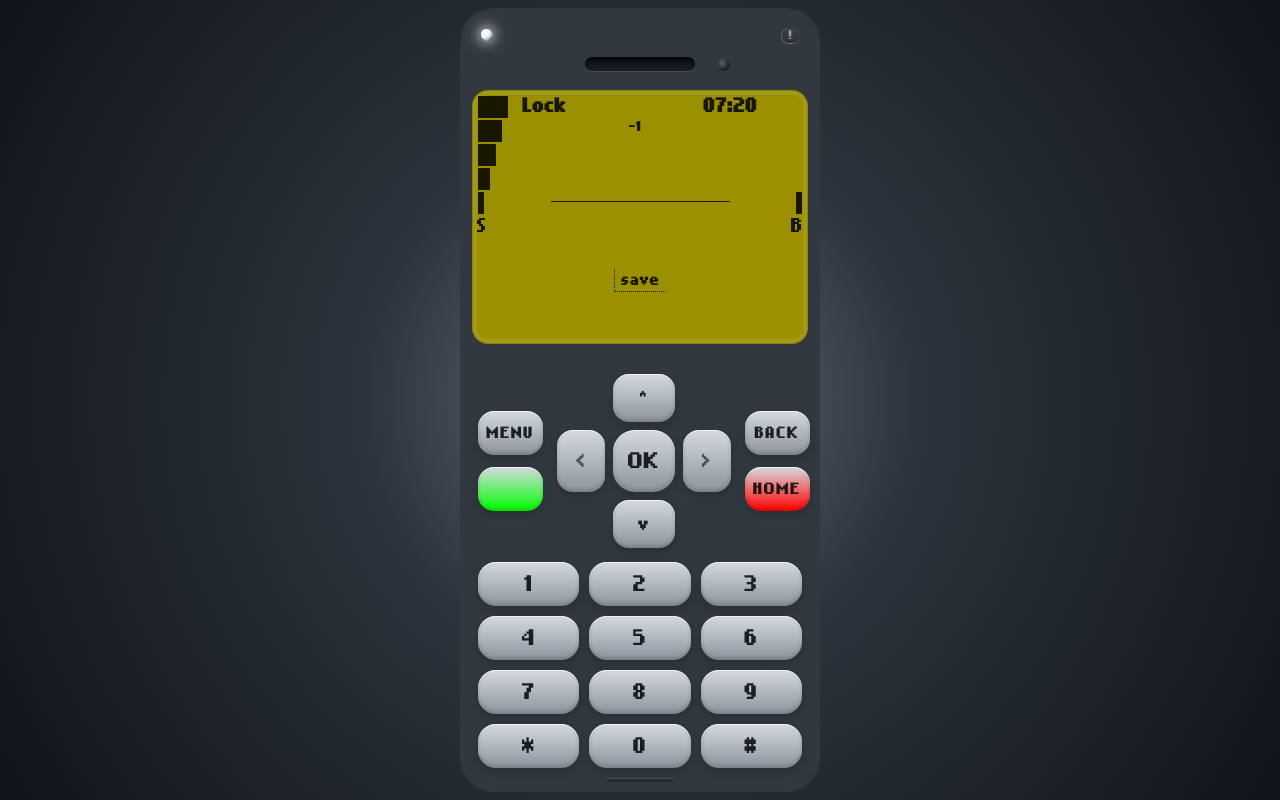
Test: phone-book text entry integration › keeps numeric input active when clicking the keypad buttons
Click the button "2". click: (640, 584)
box: [589,562,691,606]
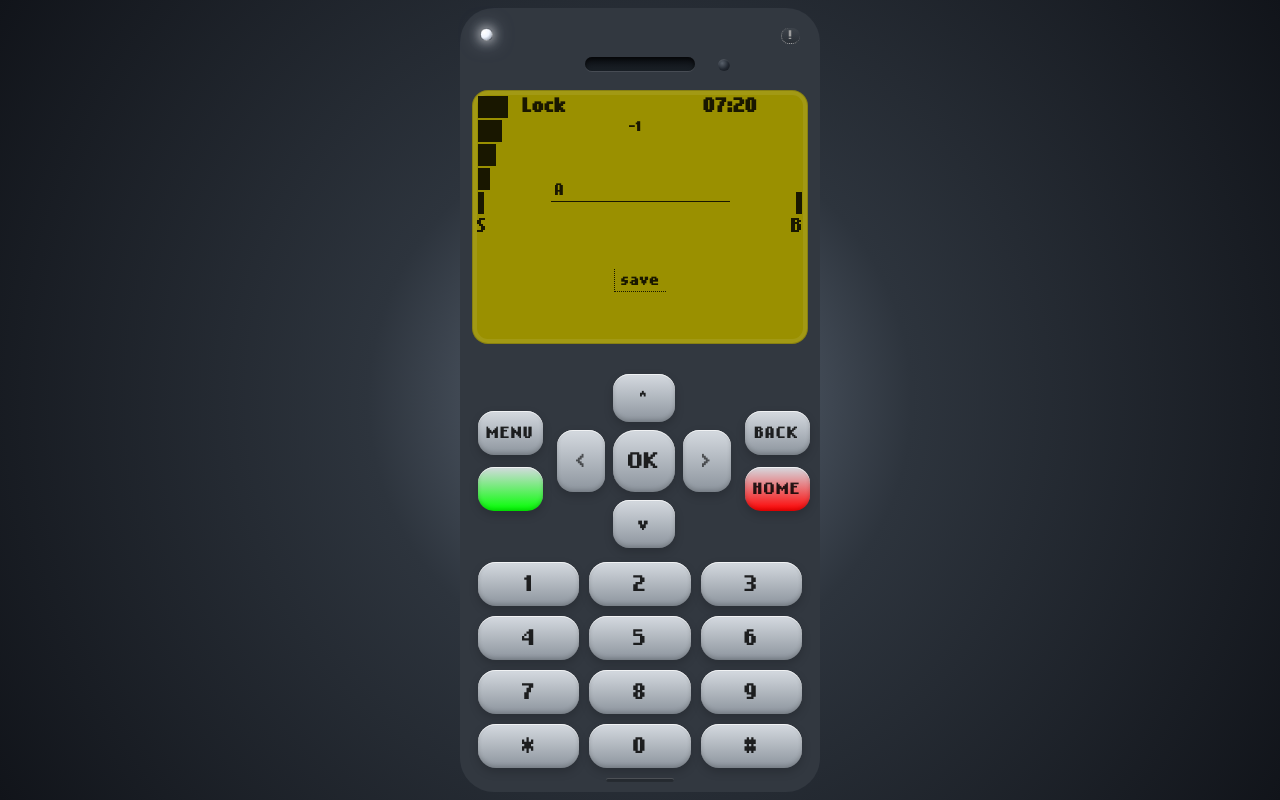
Expected: the field holds "A", [550,179,730,202]
